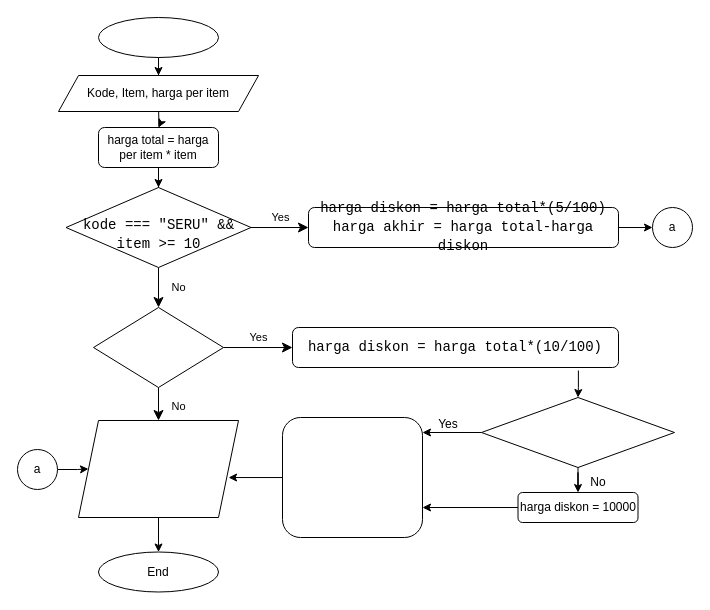
The diagram is 710 pixels wide and 610 high, and some of its shapes have lost their labels. Here are the shapes that lost their labels. From the top down, the box of each, then its label:
(98, 16, 218, 58): Start
(92, 306, 224, 388): kode === "HARIAN"
(480, 396, 674, 468): harga diskon <= 10000
(78, 420, 238, 518): harga total, harga diskon, harga akhir
(282, 416, 422, 538): harga akhir = harga total-harga diskon
